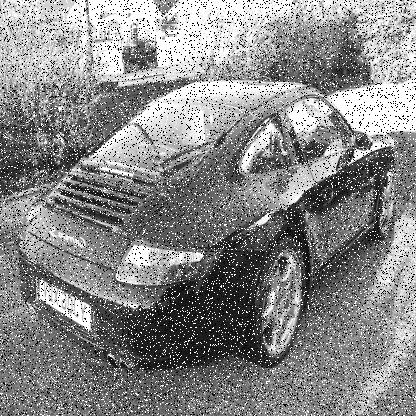Car: (19, 82, 394, 369), (122, 40, 156, 61)
